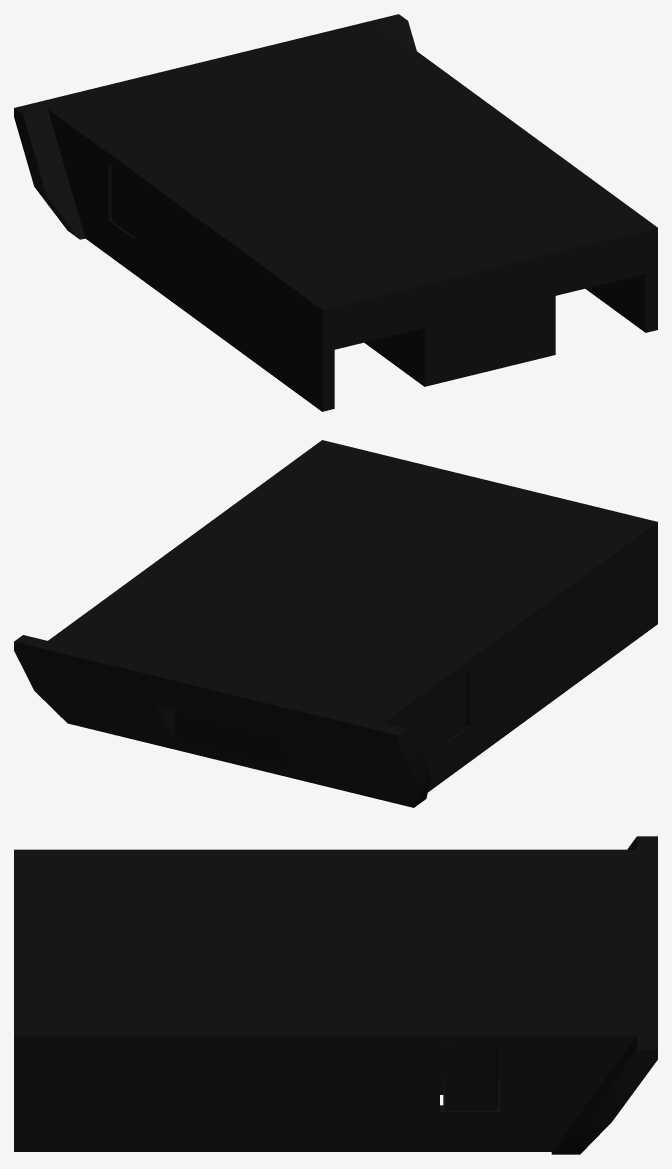
The model's file is p_korpus_electronica.fbx.
3 views of the same model, one above another, from view 1: azimuth 30°, elevation 25°; view 2: azimuth 150°, elevation 25°; view 3: azimuth 270°, elevation 25° (orthographic). The views are drawn at different scales.
Visible parts, largest first — view 1: korpus_electronica.001; view 2: korpus_electronica.001; view 3: korpus_electronica.001.
Part boxes in pixels (x1,y1,x2,y2): korpus_electronica.001: [14, 14, 657, 411]; korpus_electronica.001: [14, 440, 657, 807]; korpus_electronica.001: [14, 836, 657, 1154].
Bounding box in the file's own units: 9.4 × 2.39 × 12.
Materials: 1 (1 with a texture image).
